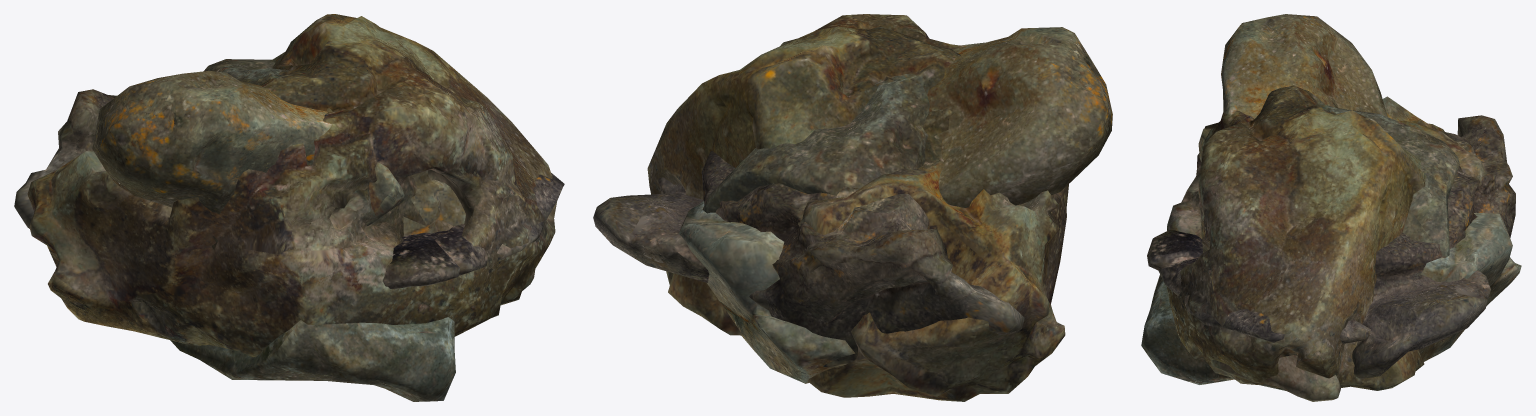
Rendered from qkbhX_tier_2.gltf.
The picture shows the model from 3 angles, left to right: view 1: azimuth 30°, elevation 25°; view 2: azimuth 150°, elevation 25°; view 3: azimuth 270°, elevation 25°; orthographic projection. The views are drawn at different scales.
Visible parts, largest first — view 1: qkbhX_LOD0_TIER2_000, qkbhX_LOD0_TIER2_002, qkbhX_LOD0_TIER2_003, qkbhX_LOD0_TIER2_001, qkbhX_LOD0_TIER2_004; view 2: qkbhX_LOD0_TIER2_000, qkbhX_LOD0_TIER2_001, qkbhX_LOD0_TIER2_002, qkbhX_LOD0_TIER2_004, qkbhX_LOD0_TIER2_003; view 3: qkbhX_LOD0_TIER2_000, qkbhX_LOD0_TIER2_001, qkbhX_LOD0_TIER2_002, qkbhX_LOD0_TIER2_003, qkbhX_LOD0_TIER2_004.
Boxes of the visible parts, x1,y1,x2,y2 form: qkbhX_LOD0_TIER2_000: (27,14,556,357); qkbhX_LOD0_TIER2_002: (92,71,535,290); qkbhX_LOD0_TIER2_003: (170,317,455,401); qkbhX_LOD0_TIER2_001: (14,89,564,288); qkbhX_LOD0_TIER2_004: (204,59,404,226); qkbhX_LOD0_TIER2_000: (647,14,1068,401); qkbhX_LOD0_TIER2_001: (593,150,1025,367); qkbhX_LOD0_TIER2_002: (927,27,1112,207); qkbhX_LOD0_TIER2_004: (702,73,929,213); qkbhX_LOD0_TIER2_003: (678,201,854,383); qkbhX_LOD0_TIER2_000: (1166,85,1486,390); qkbhX_LOD0_TIER2_001: (1147,115,1515,378); qkbhX_LOD0_TIER2_002: (1211,14,1387,401); qkbhX_LOD0_TIER2_003: (1141,212,1521,390); qkbhX_LOD0_TIER2_004: (1316,102,1459,257).
Bounding box in the file's own units: 0.14 × 0.0966 × 0.1174.
1 material, 1 textured.
